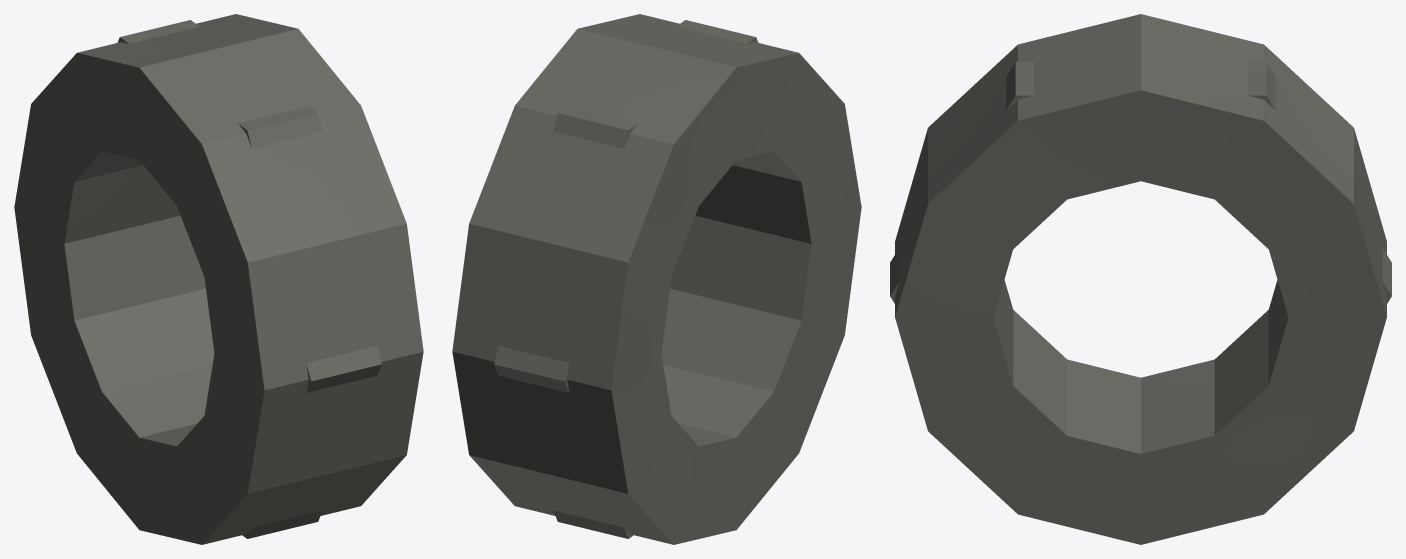
Rendered from WarrensC_PWC07_PipeCollar_Mars_SM.fbx.
3 renders of one model, left to right at view 1: azimuth 30°, elevation 25°; view 2: azimuth 150°, elevation 25°; view 3: azimuth 270°, elevation 25°, orthographic.
Parts seen in each view (by area): view 1: WarrensC_PWC07_PipeCollar_Mars_SM.001; view 2: WarrensC_PWC07_PipeCollar_Mars_SM.001; view 3: WarrensC_PWC07_PipeCollar_Mars_SM.001.
Boxes of the visible parts, <box> form: WarrensC_PWC07_PipeCollar_Mars_SM.001: <box>14,14,423,544</box>; WarrensC_PWC07_PipeCollar_Mars_SM.001: <box>452,14,861,544</box>; WarrensC_PWC07_PipeCollar_Mars_SM.001: <box>890,14,1391,544</box>.
Bounding box in the file's own units: 18 × 50 × 50.
